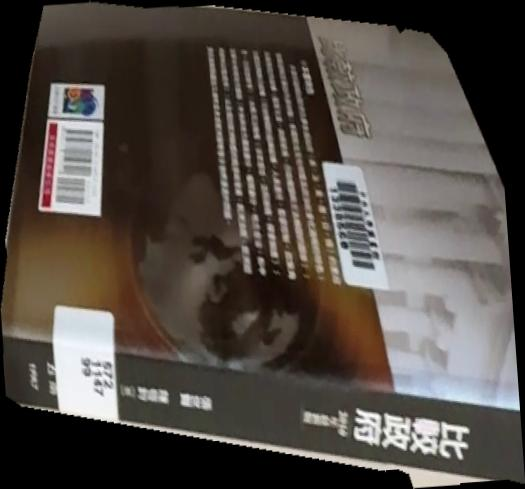flat: (1, 1, 525, 489)
